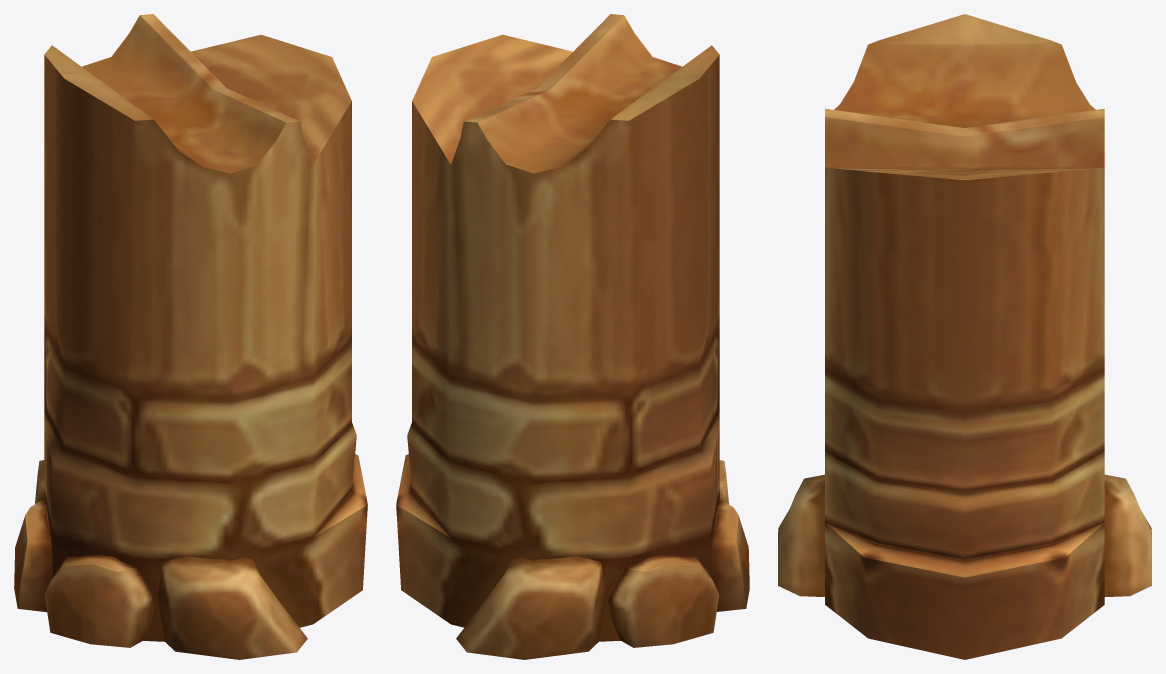
Rendered from Stage_ShaMo_ZhuZi06.FBX.
The picture shows the model from 3 angles, left to right: view 1: azimuth 30°, elevation 25°; view 2: azimuth 150°, elevation 25°; view 3: azimuth 270°, elevation 25°; orthographic projection. The views are drawn at different scales.
Parts seen in each view (by area): view 1: Stage_ShaMo_ZhuZi06; view 2: Stage_ShaMo_ZhuZi06; view 3: Stage_ShaMo_ZhuZi06.
Part boxes in pixels (x1=…): Stage_ShaMo_ZhuZi06: x1=14, y1=14, x2=367, y2=659; Stage_ShaMo_ZhuZi06: x1=396, y1=14, x2=749, y2=659; Stage_ShaMo_ZhuZi06: x1=778, y1=14, x2=1151, y2=659.
Bounding box in the file's own units: 141 × 222 × 147.
